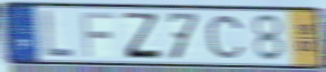7: (165, 11, 201, 62)
8: (251, 13, 285, 63)
C: (204, 14, 247, 60)
F: (79, 11, 118, 60)
L: (41, 8, 76, 60)
Z: (122, 11, 164, 60)
